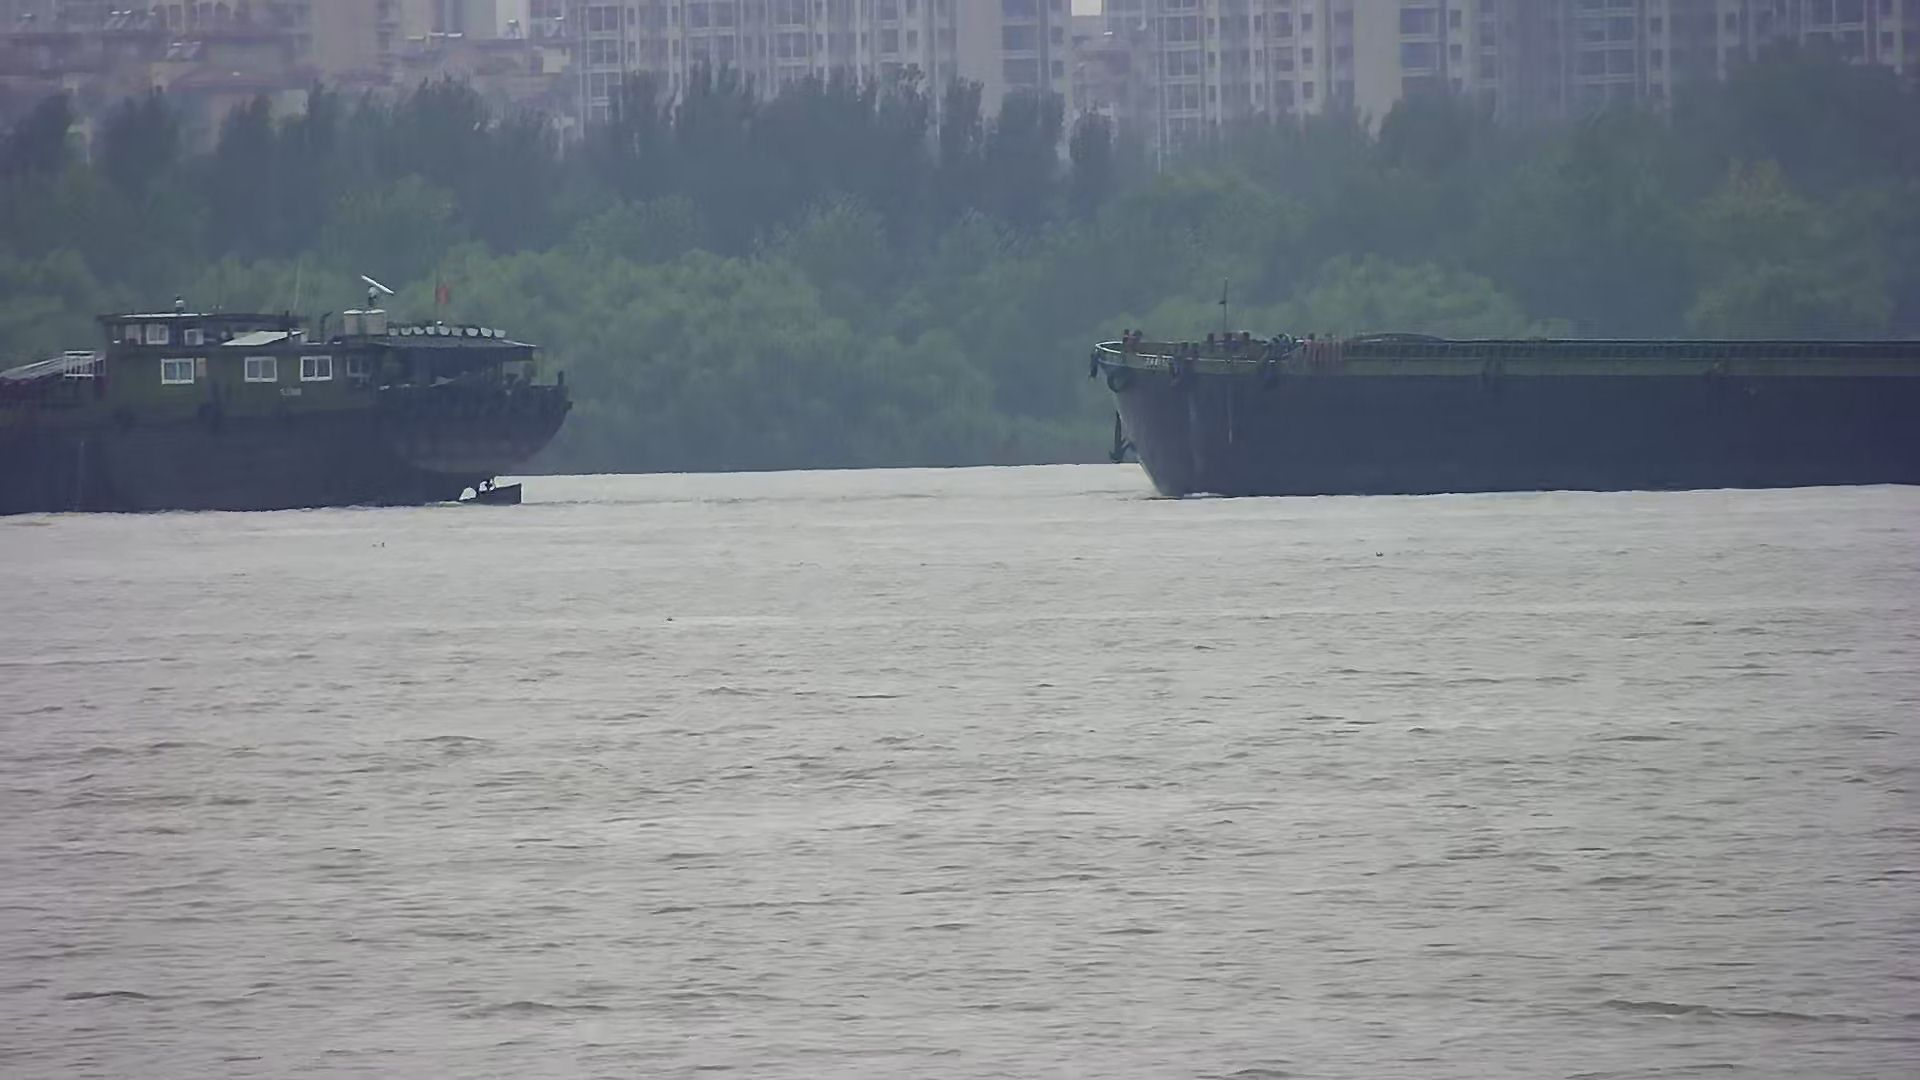ship: (1091, 310, 1920, 500), (3, 276, 574, 517)
